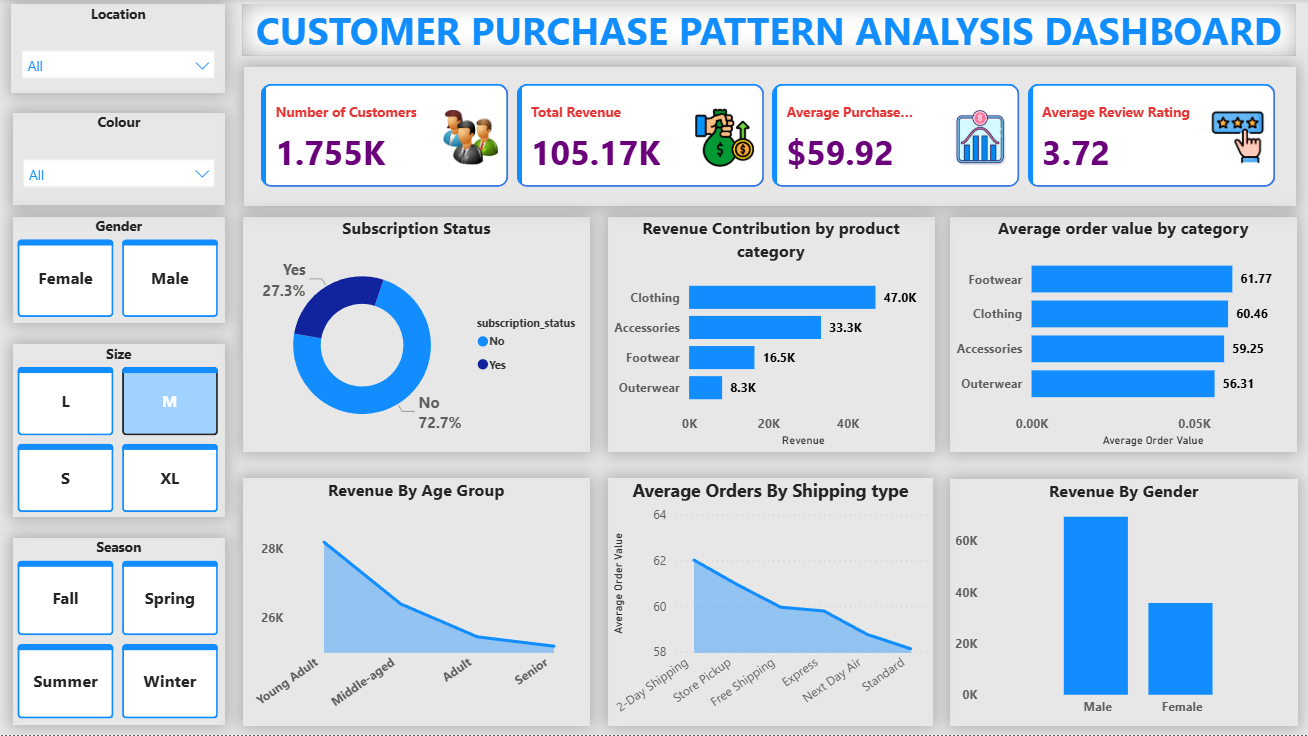

This screenshot's page, from the dashboard's own definition file:
{"tool":"powerbi","page":{"name":"Page 1","canvas":[1280,720],"ordinal":0},"visuals":[{"type":"cardVisual","fields":{"Data":["cleaned Customer Behaviour Data.Number of Customers","cleaned Customer Behaviour Data.Total Revenue","cleaned Customer Behaviour Data.Average Purchase Ammount","cleaned Customer Behaviour Data.Average Review Rating"]},"box":[238,66,1029.6,135.8],"z":0},{"type":"donutChart","title":"Subscription Status","fields":{"Y":["CountNonNull(cleaned Customer Behaviour Data.customer_id)"],"Category":["cleaned Customer Behaviour Data.subscription_status"]},"box":[237.4,212.7,340.3,230.5],"z":1000},{"type":"barChart","title":"Revenue Contribution by product category","fields":{"Category":["cleaned Customer Behaviour Data.category"],"Y":["Sum(cleaned Customer Behaviour Data.purchase_amount)"]},"box":[594.2,212.7,319.7,230.5],"z":2000},{"type":"clusteredBarChart","title":"Average order value by category","fields":{"Category":["cleaned Customer Behaviour Data.category"],"Y":["cleaned Customer Behaviour Data.Average Order Value"]},"box":[929,212.7,338.9,230.5],"z":3000},{"type":"stackedAreaChart","title":"Revenue By Age Group","fields":{"Category":["cleaned Customer Behaviour Data.age_group"],"Y":["Sum(cleaned Customer Behaviour Data.purchase_amount)"]},"box":[237.5,468.8,340,242.5],"z":4000},{"type":"stackedAreaChart","title":"Average Orders By  Shipping type","fields":{"Y":["cleaned Customer Behaviour Data.Average Order Value"],"Category":["cleaned Customer Behaviour Data.shipping_type"]},"box":[593.8,468.8,318.8,242.5],"z":5000},{"type":"columnChart","title":"Revenue By Gender","fields":{"Category":["cleaned Customer Behaviour Data.gender"],"Y":["Sum(cleaned Customer Behaviour Data.purchase_amount)"]},"box":[928.8,470,340,241.2],"z":6000},{"type":"advancedSlicerVisual","title":"Season","fields":{"Values":["cleaned Customer Behaviour Data.season"]},"box":[12.2,527,207.9,183.4],"z":7000},{"type":"advancedSlicerVisual","title":"Size","fields":{"Values":["cleaned Customer Behaviour Data.size"]},"box":[12.2,337.5,207.9,170],"z":8000},{"type":"advancedSlicerVisual","title":"Gender","fields":{"Values":["cleaned Customer Behaviour Data.gender"]},"box":[12.2,212.8,207.9,103.9],"z":9000},{"type":"slicer","title":"Colour","fields":{"Values":["cleaned Customer Behaviour Data.color"]},"box":[12.2,111.3,207.9,90.5],"z":10000},{"type":"slicer","title":"Location","fields":{"Values":["cleaned Customer Behaviour Data.location"]},"box":[11,4.9,209.1,86.8],"z":11000},{"type":"textbox","title":"CUSTOMER PURCHASE PATTERN ANALYSIS DASHBOARD","box":[237.1,4.3,1030,50],"z":12000}]}

Visuals, with their boxes in screenshot pixels (x1, y1, x2, y2), scaled from the page's 1280x720 canvas onto the 1308x736 screenshot:
cardVisual - cleaned Customer Behaviour Data.Number of Customers x cleaned Customer Behaviour Data.Total Revenue: <region>243, 67, 1295, 206</region>
"Subscription Status" donutChart: <region>243, 217, 590, 453</region>
"Revenue Contribution by product category" barChart: <region>607, 217, 934, 453</region>
"Average order value by category" clusteredBarChart: <region>949, 217, 1296, 453</region>
"Revenue By Age Group" stackedAreaChart: <region>243, 479, 590, 727</region>
"Average Orders By  Shipping type" stackedAreaChart: <region>607, 479, 933, 727</region>
"Revenue By Gender" columnChart: <region>949, 480, 1297, 727</region>
"Season" advancedSlicerVisual: <region>12, 539, 225, 726</region>
"Size" advancedSlicerVisual: <region>12, 345, 225, 519</region>
"Gender" advancedSlicerVisual: <region>12, 218, 225, 324</region>
"Colour" slicer: <region>12, 114, 225, 206</region>
"Location" slicer: <region>11, 5, 225, 94</region>
"CUSTOMER PURCHASE PATTERN ANALYSIS DASHBOARD" textbox: <region>242, 4, 1295, 56</region>
